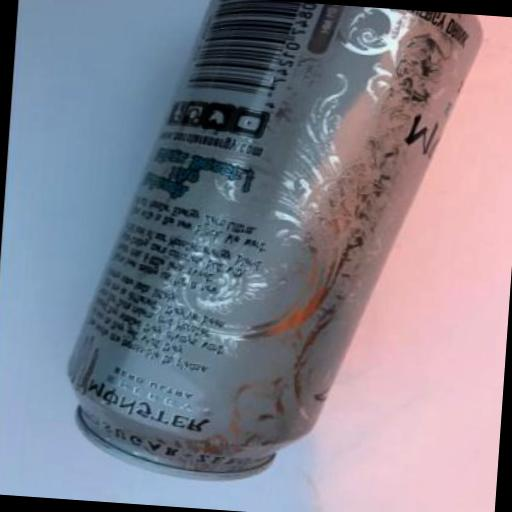metal: (59, 0, 486, 499)
